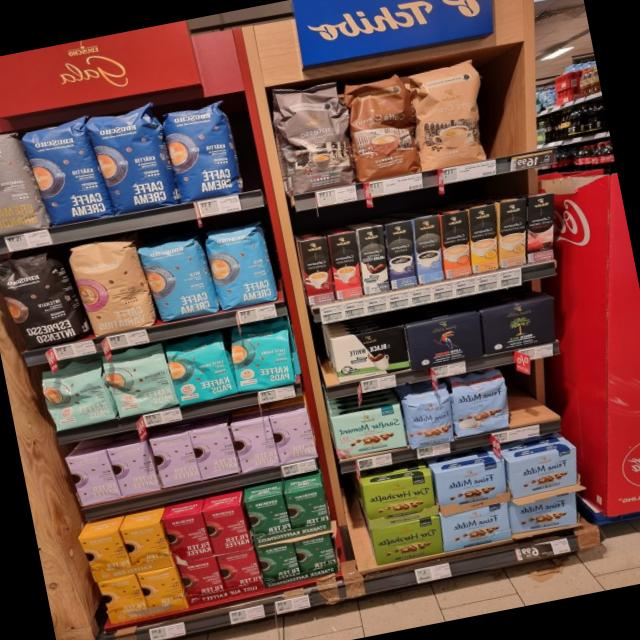BM Gemahlen: (476, 294, 564, 356)
BW Gemahlen: (328, 324, 410, 386)
CC Mild: (403, 54, 498, 173)
CC Vollmundig 36 Pads: (339, 70, 427, 184)
Espresso Aromatisch: (269, 80, 360, 196)
FM 36 Pads: (446, 369, 515, 437)
FM Bohne: (399, 390, 458, 451)
FM Gemahlen: (505, 445, 585, 500), (434, 460, 512, 516), (438, 501, 514, 553), (508, 490, 583, 536)
Herzhatfe Mundig: (360, 472, 439, 530), (369, 514, 445, 566)
LG Gemahlen: (404, 310, 486, 372)
SM Gemahlen: (328, 404, 408, 461)
Simo CC Colombia: (527, 192, 555, 263)
Simo CCMild bigpack: (469, 203, 499, 273)
Simo CCVollmundig bigpack: (441, 210, 472, 279)
Simo Decaff: (499, 199, 526, 268)
Simo Es Brazil: (325, 231, 366, 300)
Simo Es Caramel: (297, 237, 338, 305)
Simo Es Elegant: (354, 225, 394, 295)
Simo Es Kraft: (385, 221, 417, 289)
Simo Es Vanilla: (414, 215, 444, 283)
